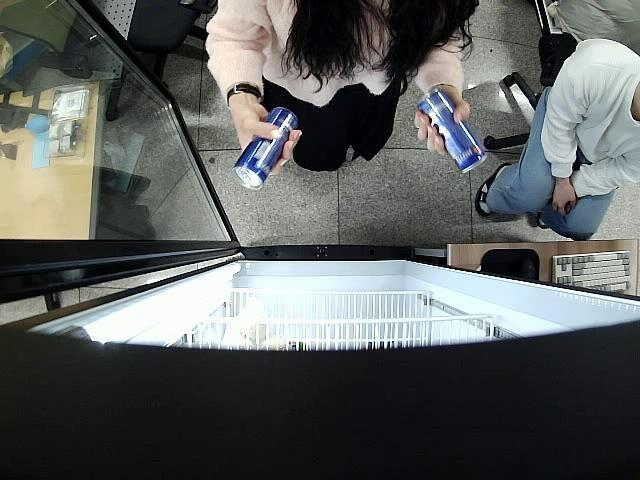16_hot6: (418, 88, 488, 173), (236, 106, 296, 191)
